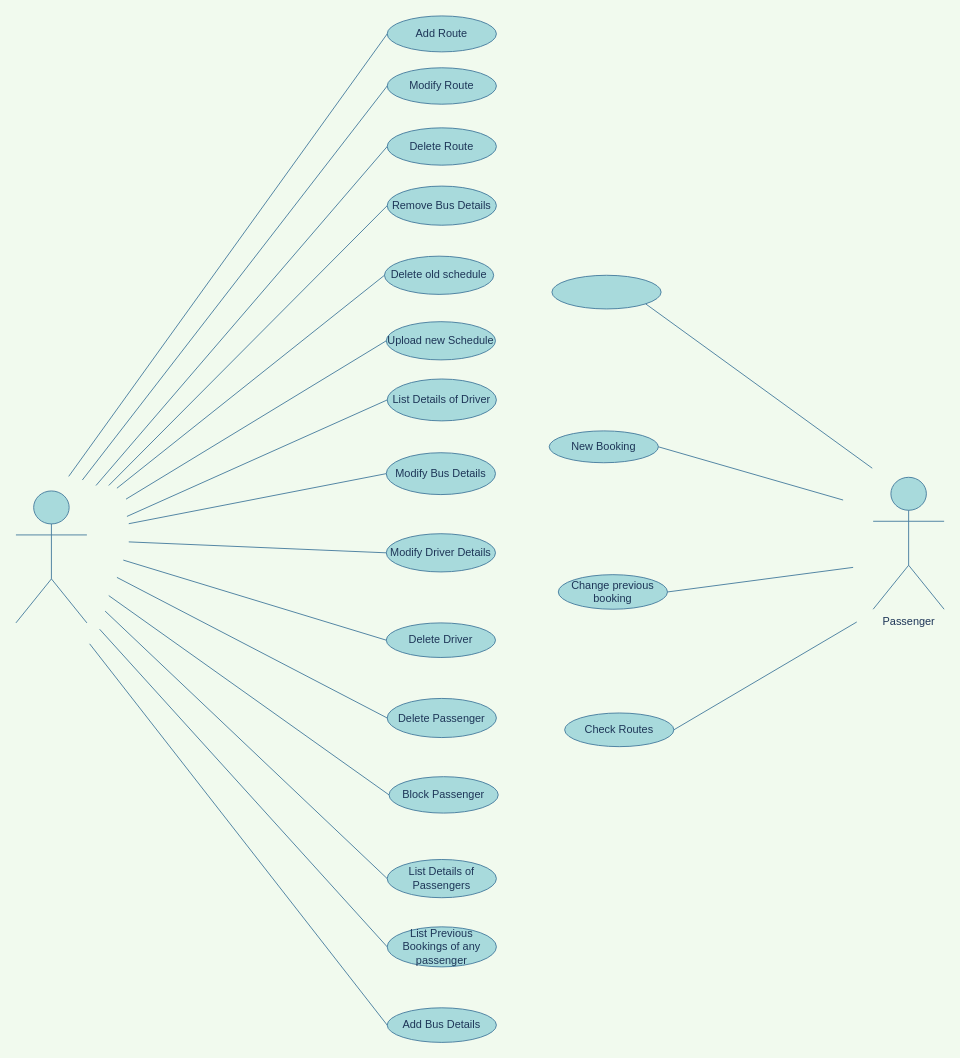
Some shapes in this 960 by 1058 pixel diagram are drawn without their labels. Here are the shapes that lost their labels. From the top down, the centre of each, then its label:
At (x=606, y=291): "Change Profile".
At (x=51, y=556): "Admin".
